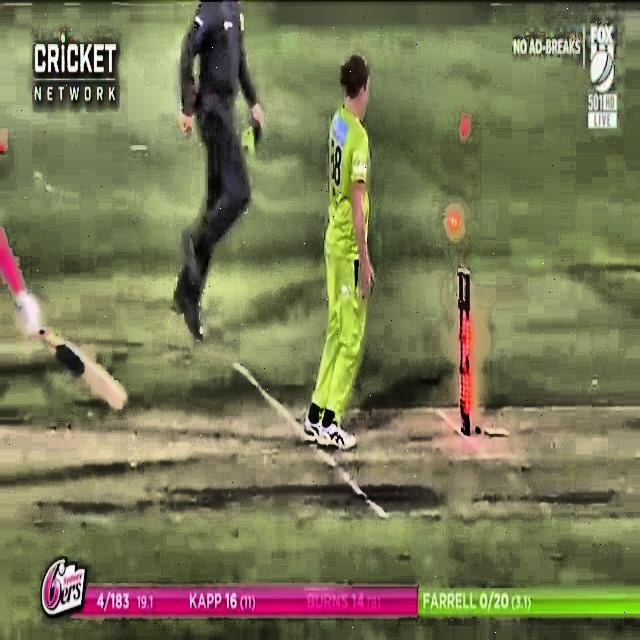Bat: (33, 321, 132, 412)
Dis_Wicket: (434, 207, 488, 440)
Pitch_Line: (304, 431, 388, 522), (230, 360, 306, 435)
